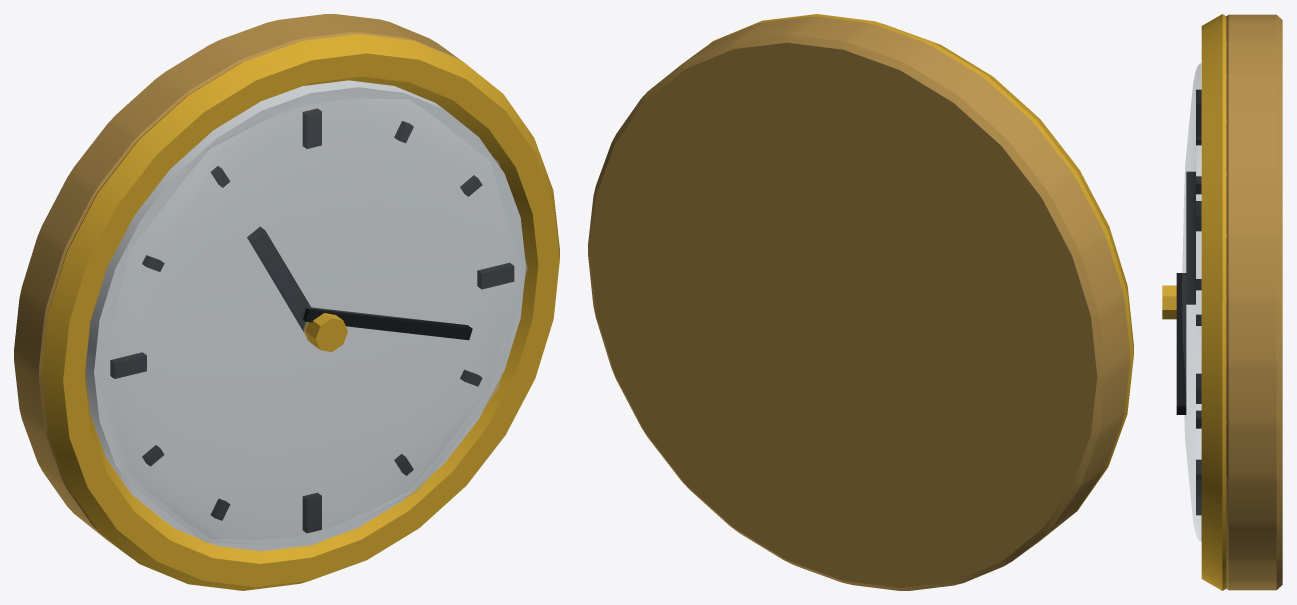
Rendered from clock_analogue_chronometer.glb.
3 renders of one model, left to right at view 1: azimuth 30°, elevation 25°; view 2: azimuth 150°, elevation 25°; view 3: azimuth 270°, elevation 25°, orthographic. The views are drawn at different scales.
Parts seen in each view (by area): view 1: clock_analogue_chronometer; view 2: clock_analogue_chronometer; view 3: clock_analogue_chronometer.
Part boxes in pixels (box(x1,y1,x2,y2)): clock_analogue_chronometer: box(14, 14, 559, 590); clock_analogue_chronometer: box(588, 14, 1133, 590); clock_analogue_chronometer: box(1162, 14, 1282, 590).
Bounding box in the file's own units: 0.48 × 0.48 × 0.1.
